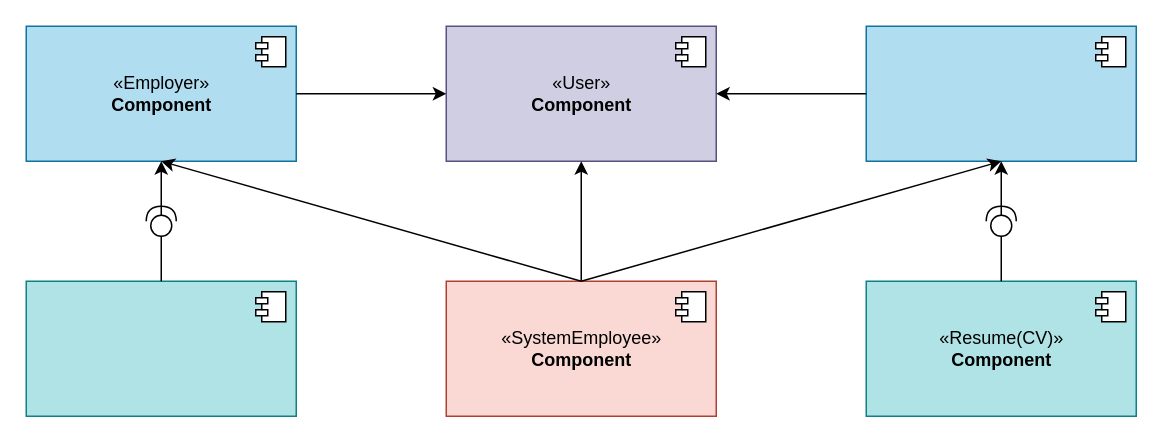
This 1163x443 diagram has some shape labels left out. Here are the shapes that lost their labels. From the top down, the centre of each, then its label:
At [1000,93]: "«JobSeeker» Component".
At [160,348]: "«JobAdvertisement» Component".
